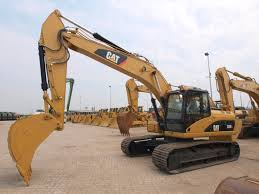excavator: (12, 10, 239, 187)
